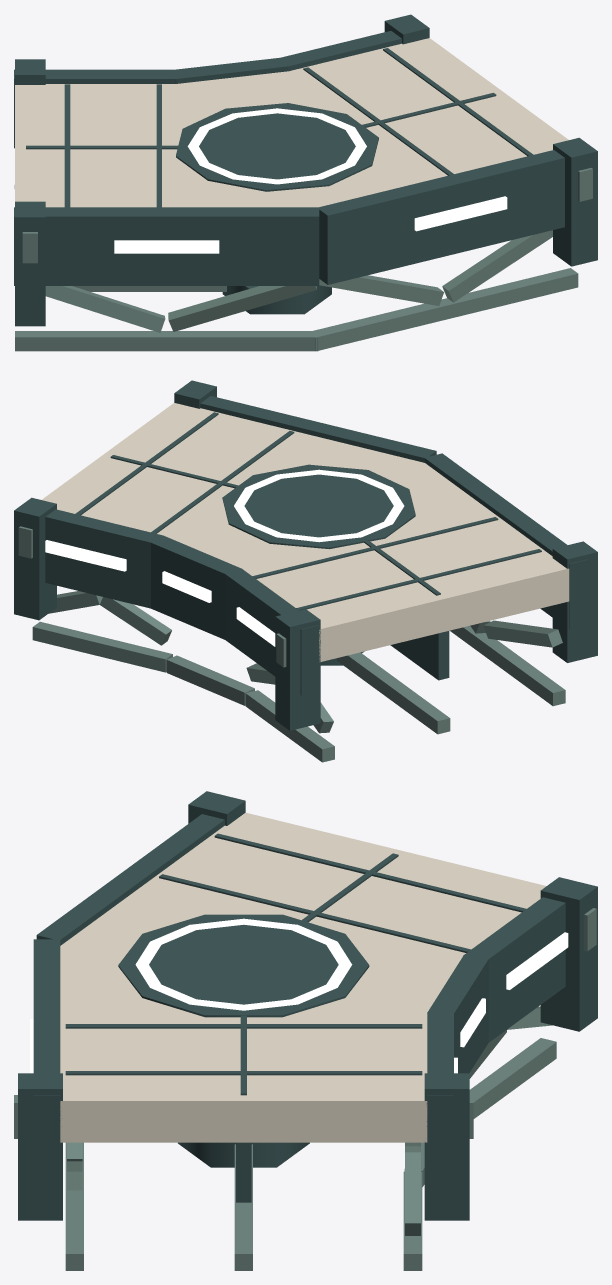
Rendered from Bend_150_lab.glb.
3 views of the same model, one above another, from view 1: azimuth 30°, elevation 25°; view 2: azimuth 150°, elevation 25°; view 3: azimuth 270°, elevation 25° (orthographic). The views are drawn at different scales.
Visible parts, largest first — view 1: Bend_150; view 2: Bend_150; view 3: Bend_150.
Part boxes in pixels (bbox=[...]): Bend_150: bbox=[14, 14, 597, 351]; Bend_150: bbox=[14, 380, 597, 762]; Bend_150: bbox=[14, 791, 597, 1270].
Size of the model in its own units: 5.34 by 1.58 by 4.42.
